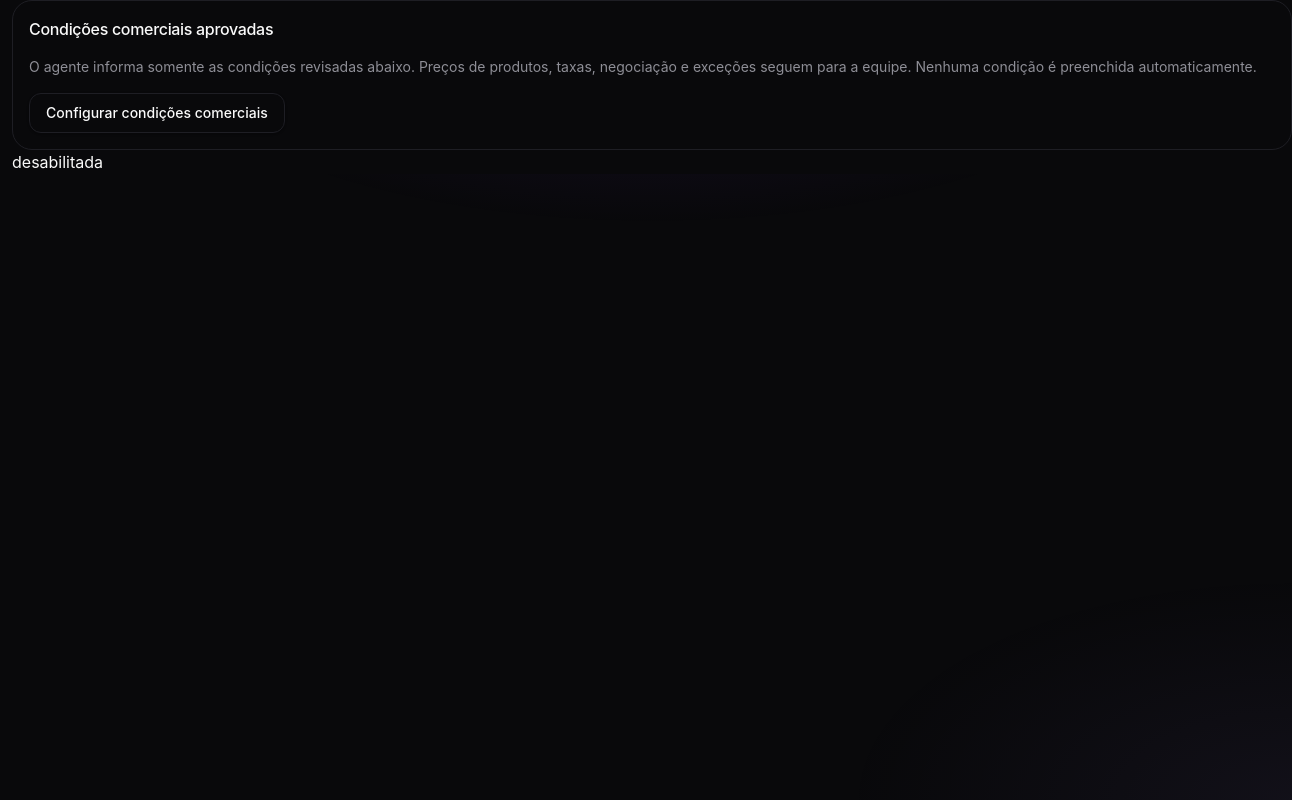
Test: não preenche condições reais e permite desabilitar respostas comerciais
Expected: the text "desabilitada" is shown, x1=12 y1=152 x2=103 y2=172
Click the button "Configurar condições comerciais" at (157, 113), box x1=29 y1=93 x2=285 y2=133
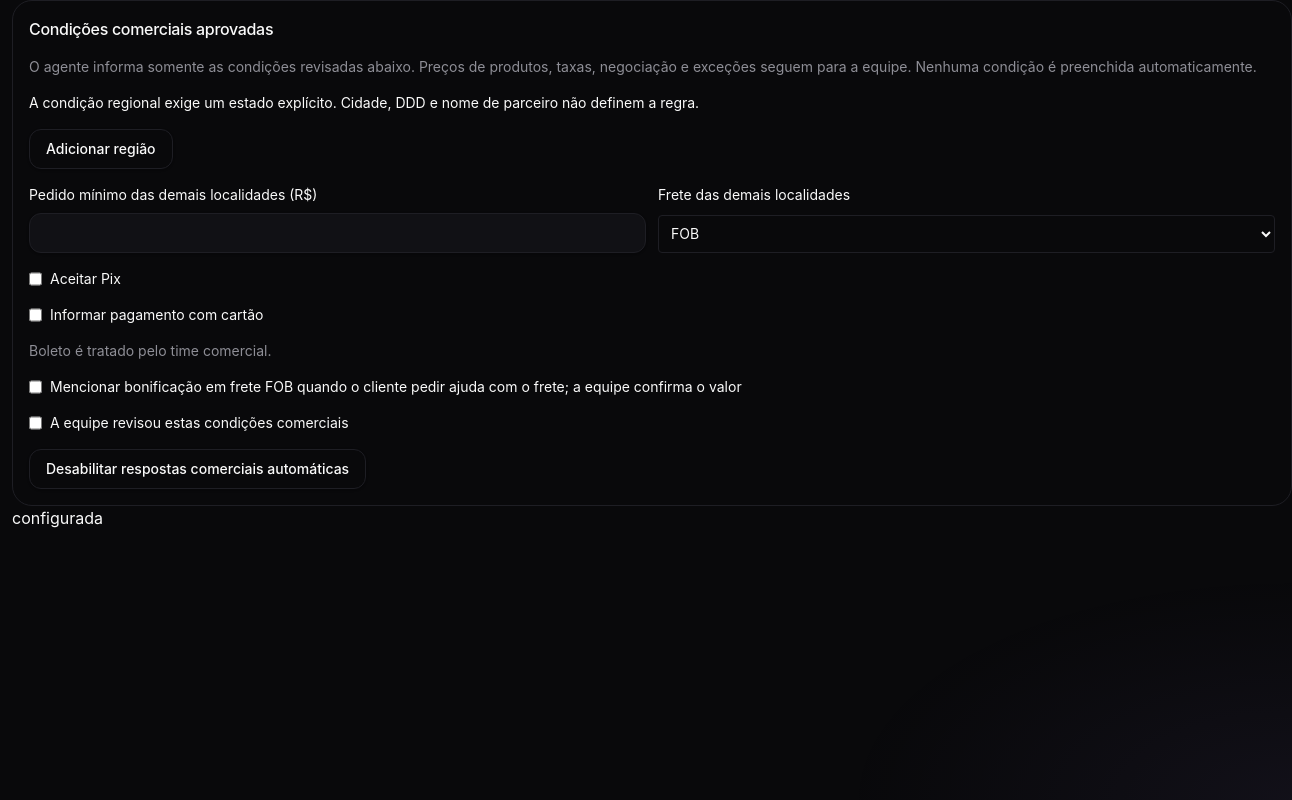
Expected: the number field labelled "Pedido mínimo das demais localidades (R$)" is empty, x1=29 y1=213 x2=646 y2=253
Click the button "Desabilitar respostas comerciais automáticas" at (198, 469), box x1=29 y1=449 x2=366 y2=489
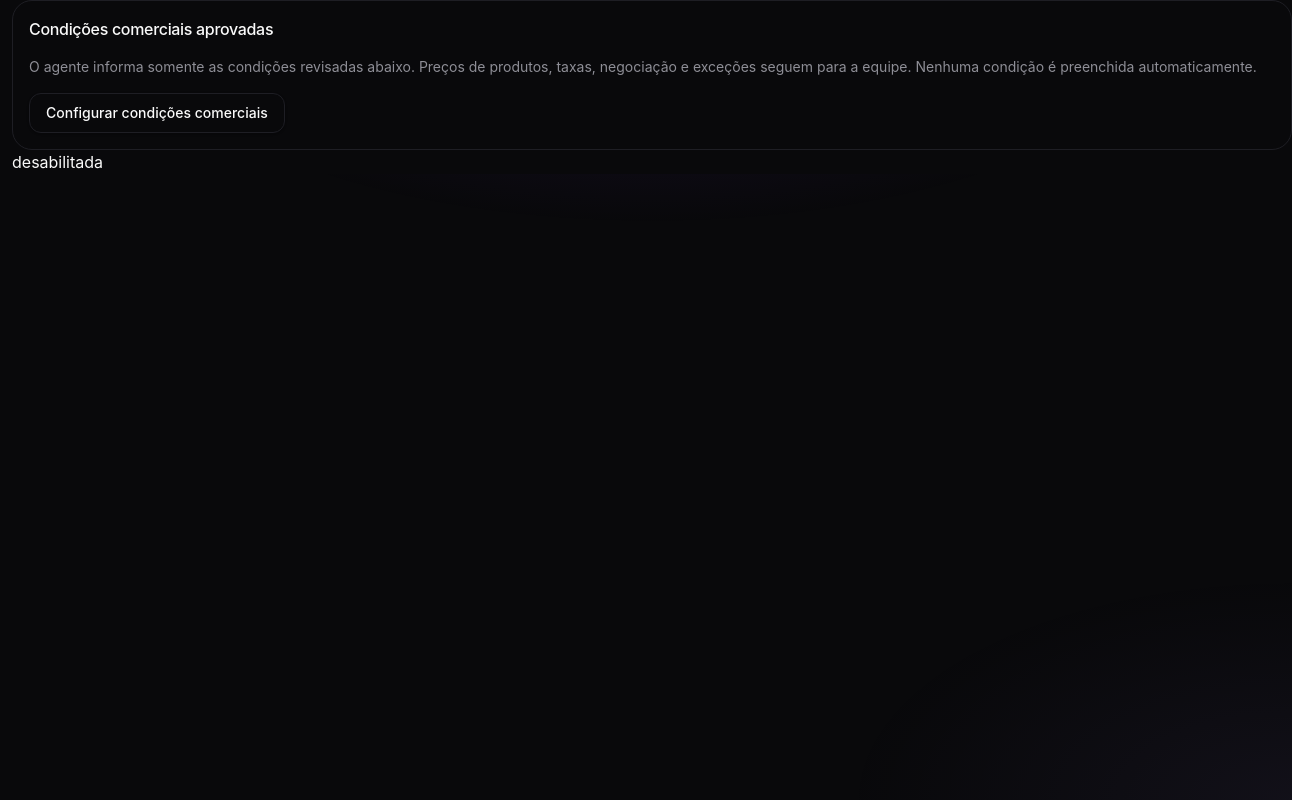
Expected: the text "desabilitada" is shown, x1=12 y1=152 x2=103 y2=172
